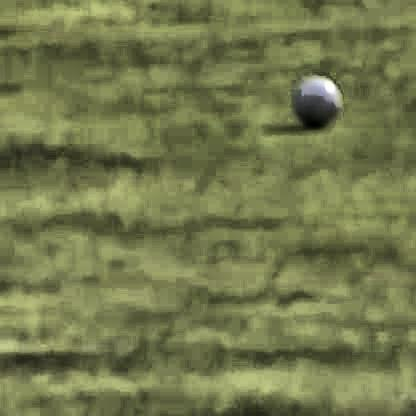golfball: (289, 72, 339, 123)
